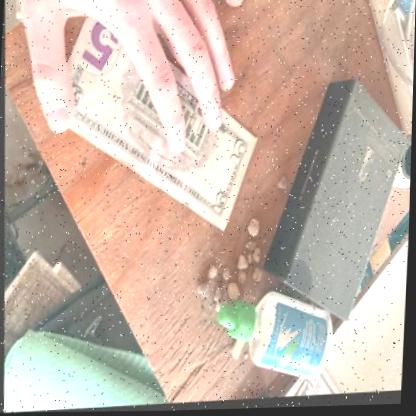five-back: (45, 0, 255, 235)
